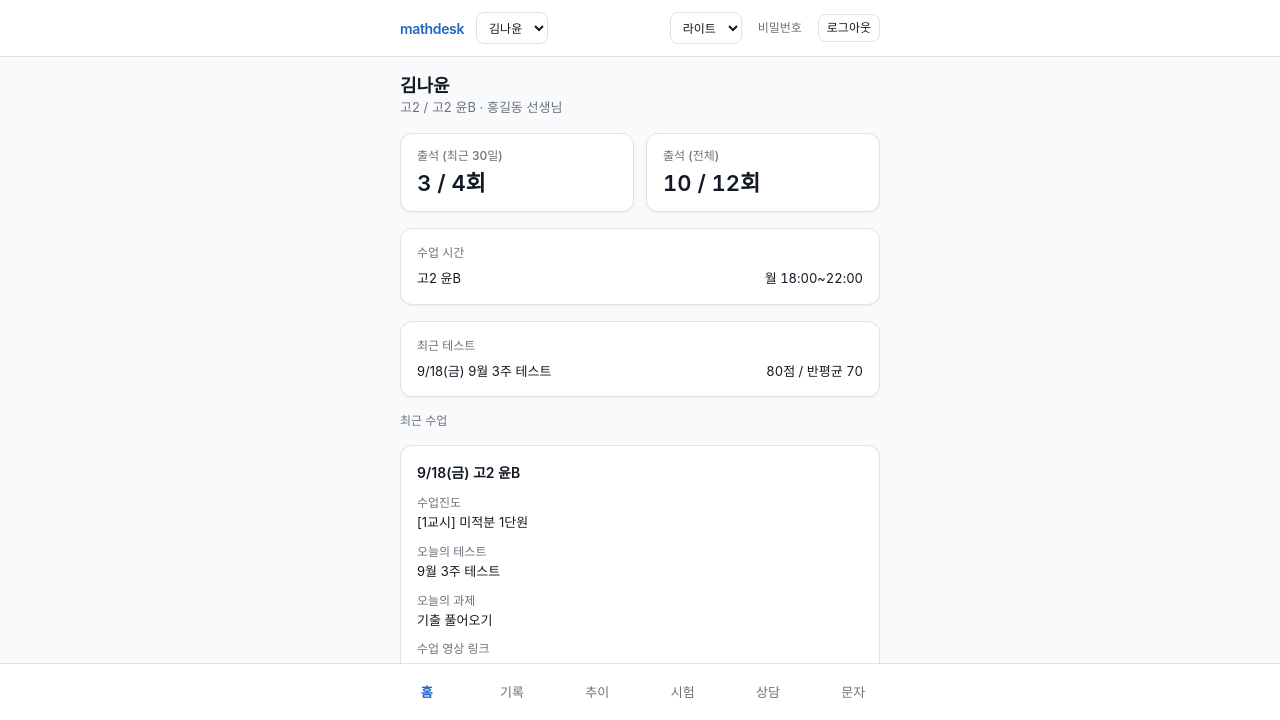
Scenario: PortalApp › shows the home summary for the first child and lets a guardian switch children
The image size is (1280, 720).
expect the heading "김나윤" is shown: met, box [400,75,450,96]
expect the text "3 / 4회" is shown: met, box [417,170,486,196]
Step 1. Select "김정현" in the dropdown named "자녀" → (512, 28), box [476,12,548,44]
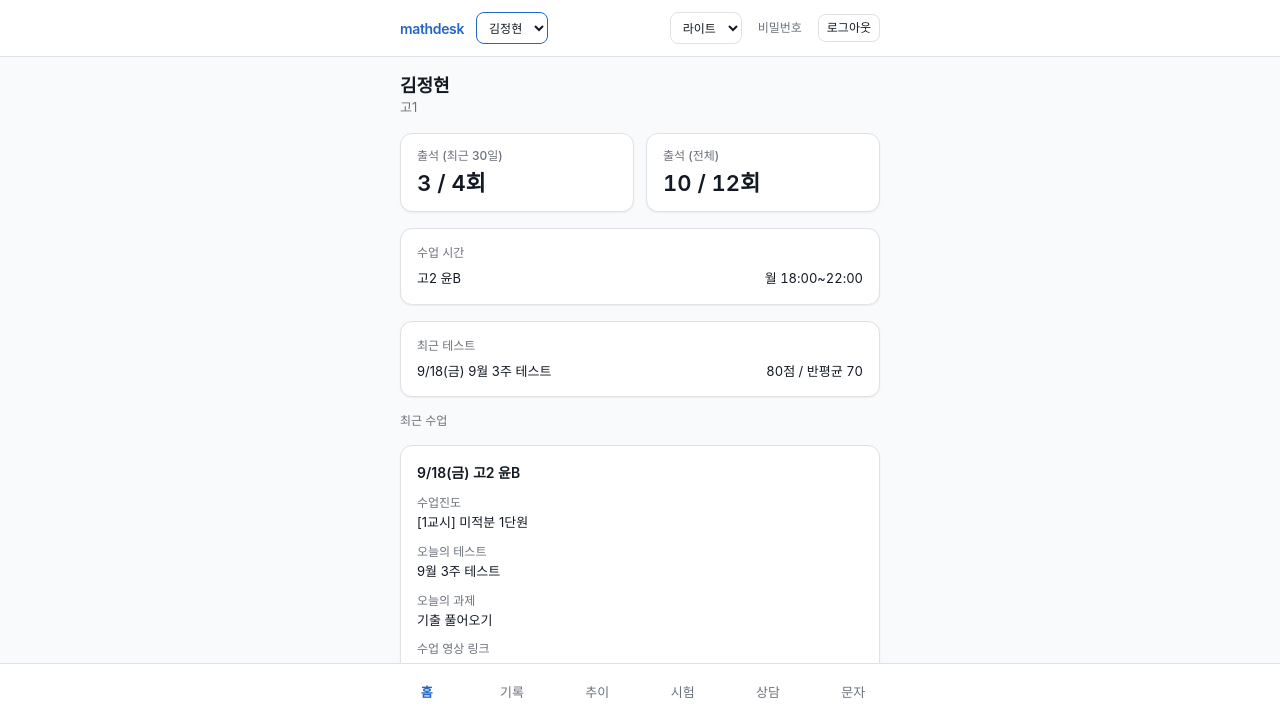
expect the heading "김정현" is shown: met, box [400,75,450,96]
